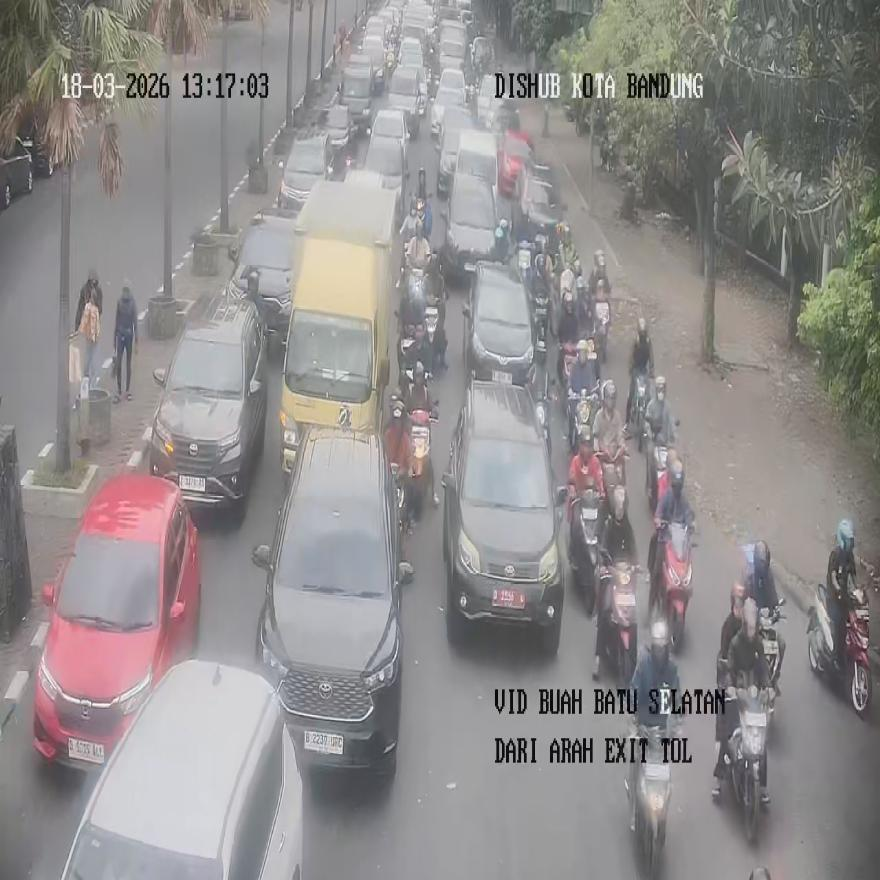Motor: (252, 422, 414, 784), (60, 660, 302, 879), (32, 473, 200, 772), (440, 378, 568, 652), (148, 299, 266, 516), (462, 260, 538, 388)
Truk: (626, 690, 682, 878), (806, 580, 870, 718), (724, 682, 774, 841), (649, 518, 693, 652), (594, 556, 638, 686), (569, 489, 603, 616), (407, 407, 437, 516), (644, 418, 677, 511), (757, 598, 786, 696), (567, 386, 596, 457), (627, 373, 651, 451), (423, 300, 448, 372), (591, 298, 610, 364), (559, 340, 580, 391)
